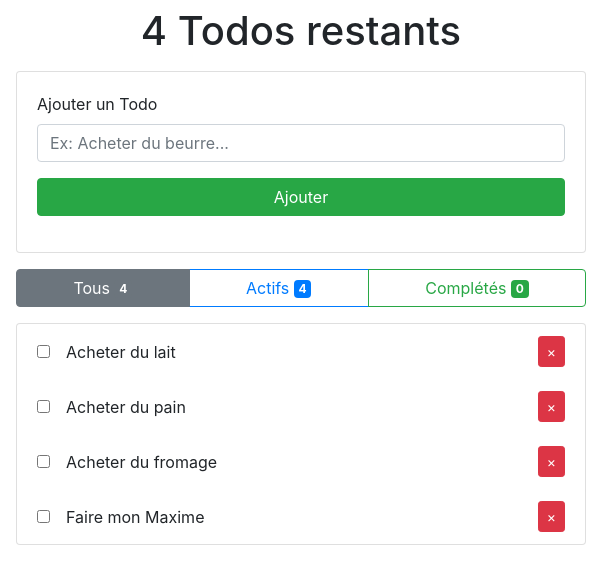
Test: Filtrage de la liste › le filtre "Actifs" masque les todos complétés
Click the checkbox named "marquer \"acheter du lait\" comme complété" at (44, 352), box 37,345 -> 50,358
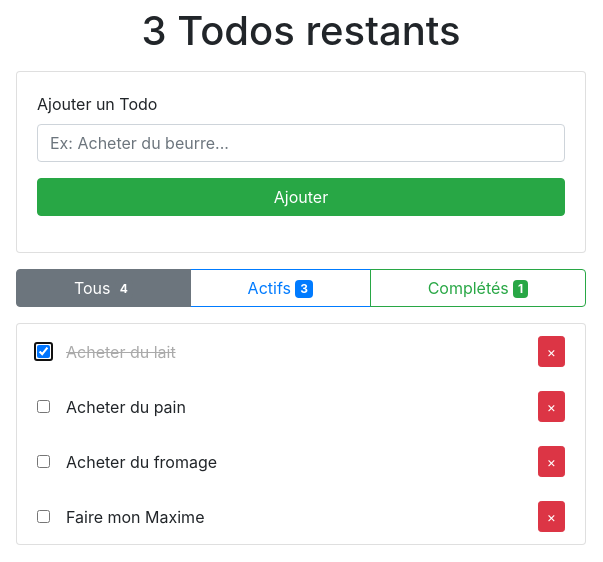
// On applique le filtre Actifs
Click the button "Actifs 3" at (280, 288), box 190,269 -> 371,307
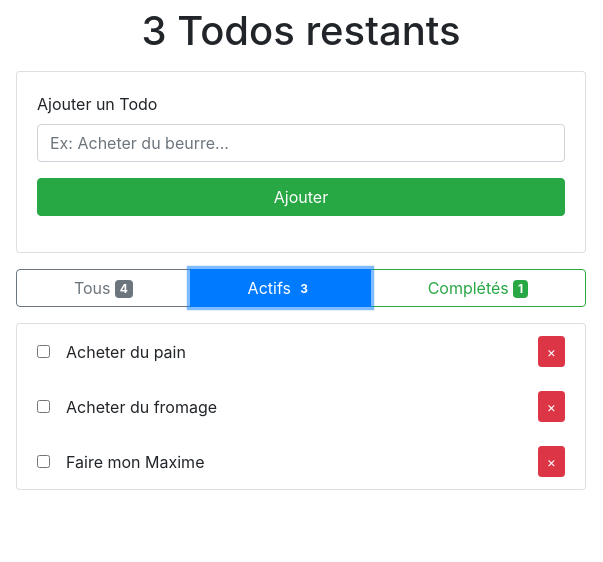
Expected: the text "Acheter du pain" is shown, 66,340 -> 186,364
Now the text "Acheter du lait" is gone
